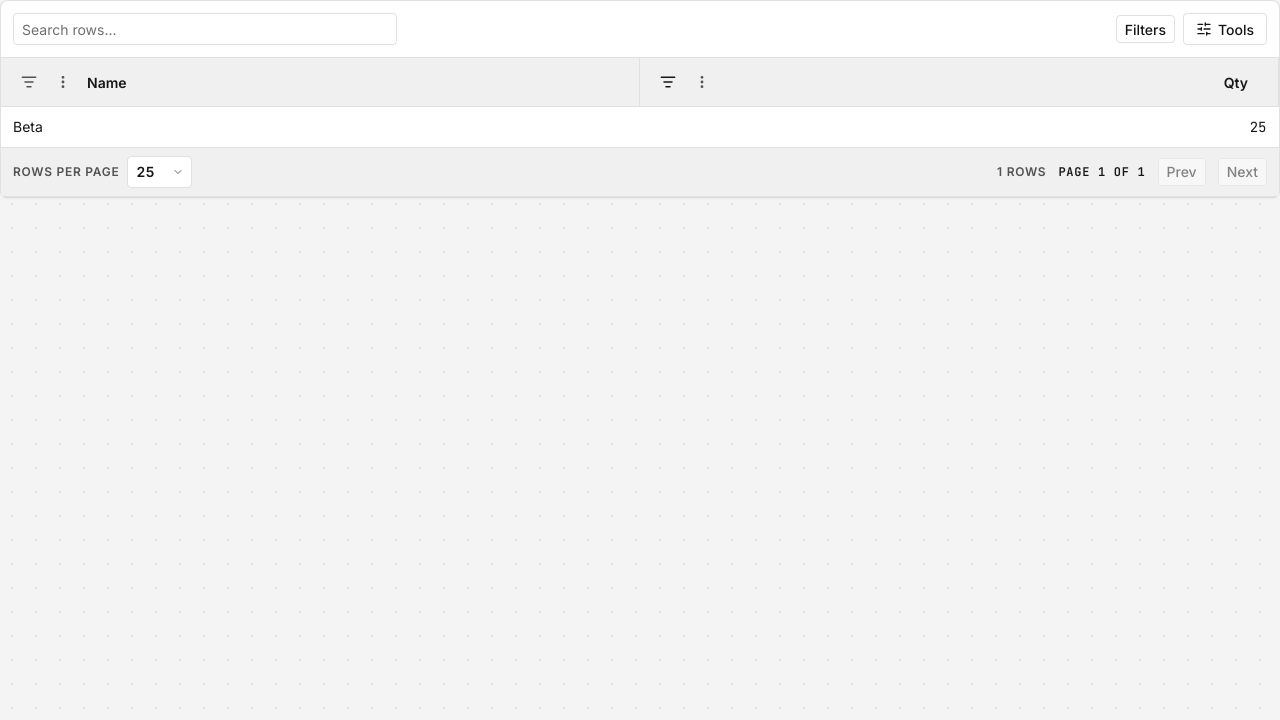
Test case: two-condition AND/OR filter › renders a two-condition filter as a read-only floating chip
Click the button "Filters" at (1145, 29), box [1116,15,1175,43]
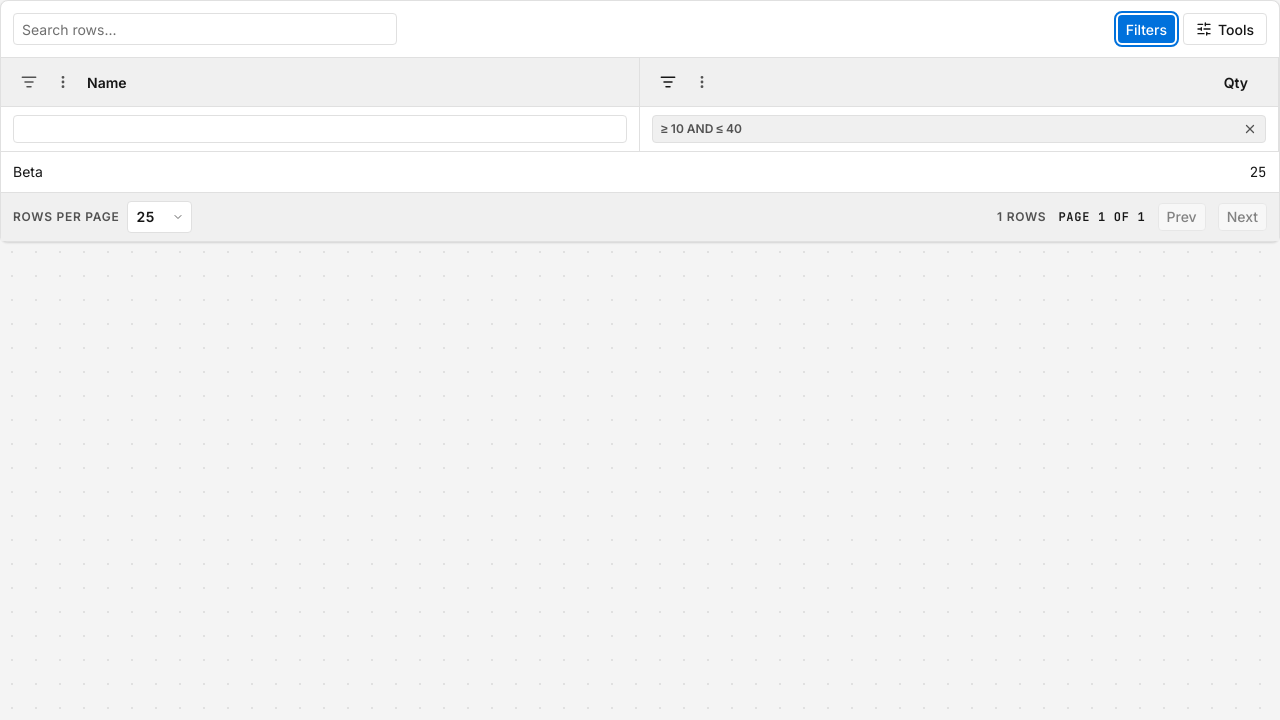
Expected: the text "≥ 10 AND ≤ 40" is shown, [661,120,742,138]
